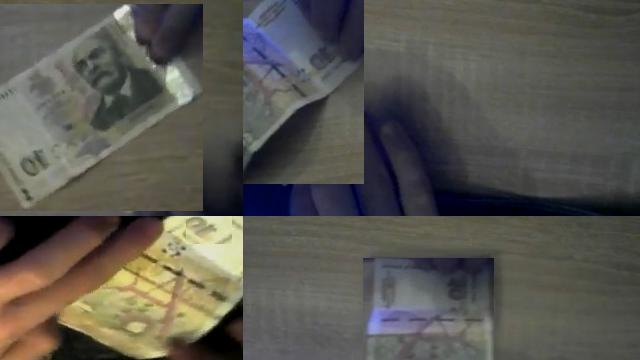10leva: (0, 4, 203, 211), (243, 0, 364, 176), (364, 258, 494, 360), (186, 216, 231, 244)
